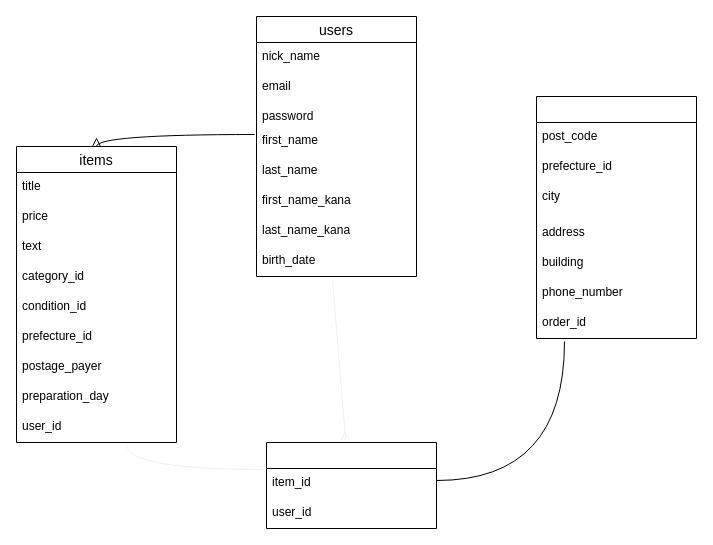
Some shapes in this 713 by 545 pixel diagram are drawn without their labels. Here are the shapes that lost their labels. From the top down, the box of each, then its label:
(536, 96, 696, 338): adresses
(266, 442, 436, 528): purchase
